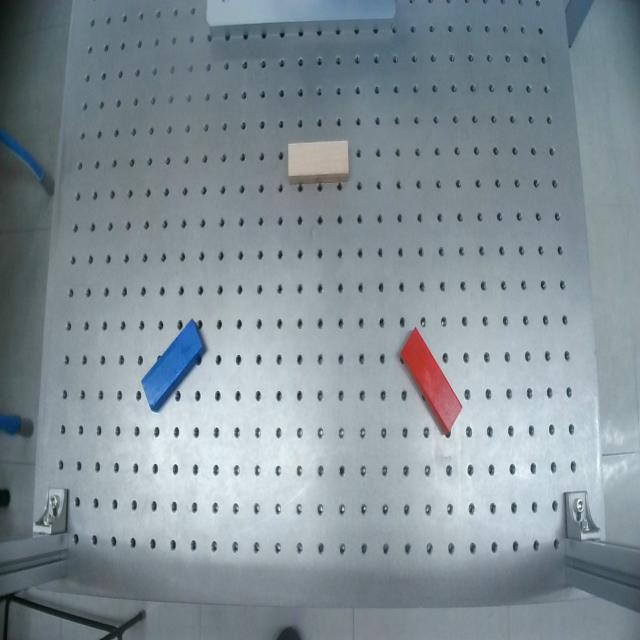blue: (130, 318, 216, 414)
red: (390, 328, 471, 436)
wood: (286, 140, 350, 185)
